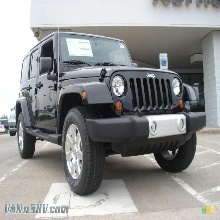no damage: (15, 31, 207, 196)
